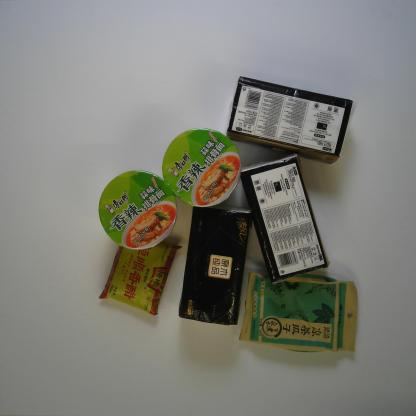Dried Food: (238, 271, 358, 354)
Instant Noodles: (97, 168, 179, 250), (162, 127, 242, 210)
Seasoner: (97, 242, 183, 316)
Tissue: (239, 151, 331, 286), (225, 75, 354, 165), (178, 205, 253, 327)
